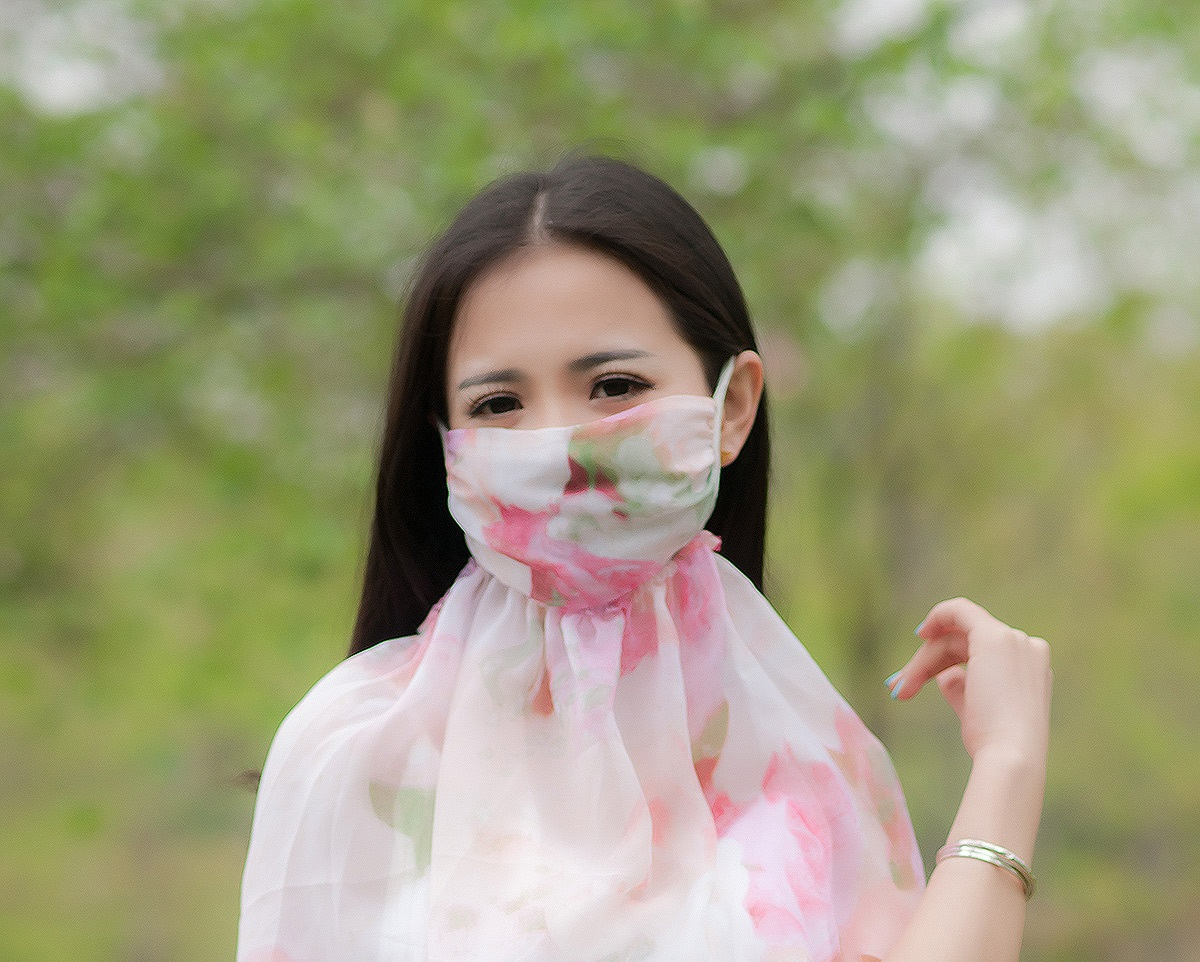face_mask: (446, 252, 715, 610)
